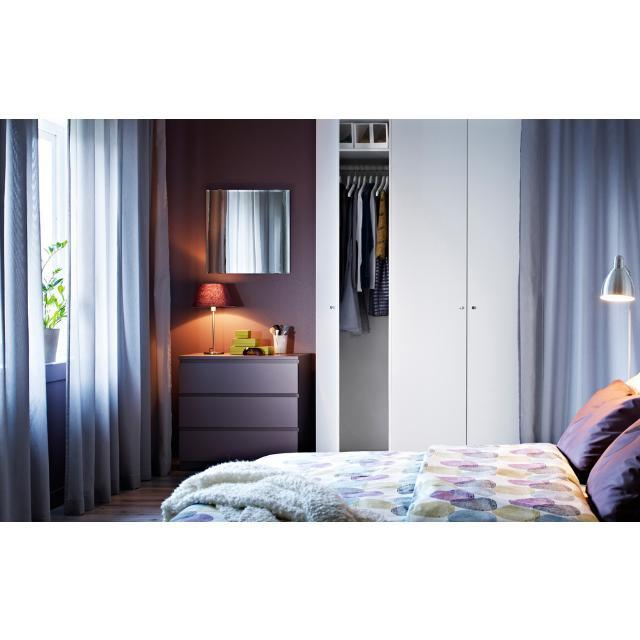bed: (162, 373, 640, 520)
curtain: (519, 118, 640, 442), (64, 118, 152, 514), (0, 118, 50, 520)
dresser: (316, 118, 521, 450), (179, 353, 315, 468)
lamp: (600, 254, 635, 377)
plant: (42, 267, 66, 362), (42, 239, 67, 270)
